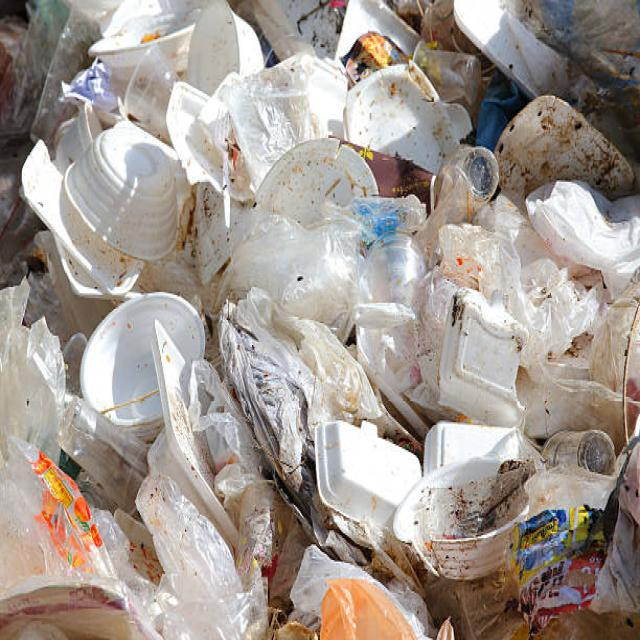glass: (544, 430, 616, 483)
plastic: (270, 85, 542, 563), (75, 286, 277, 598), (48, 20, 217, 138)
